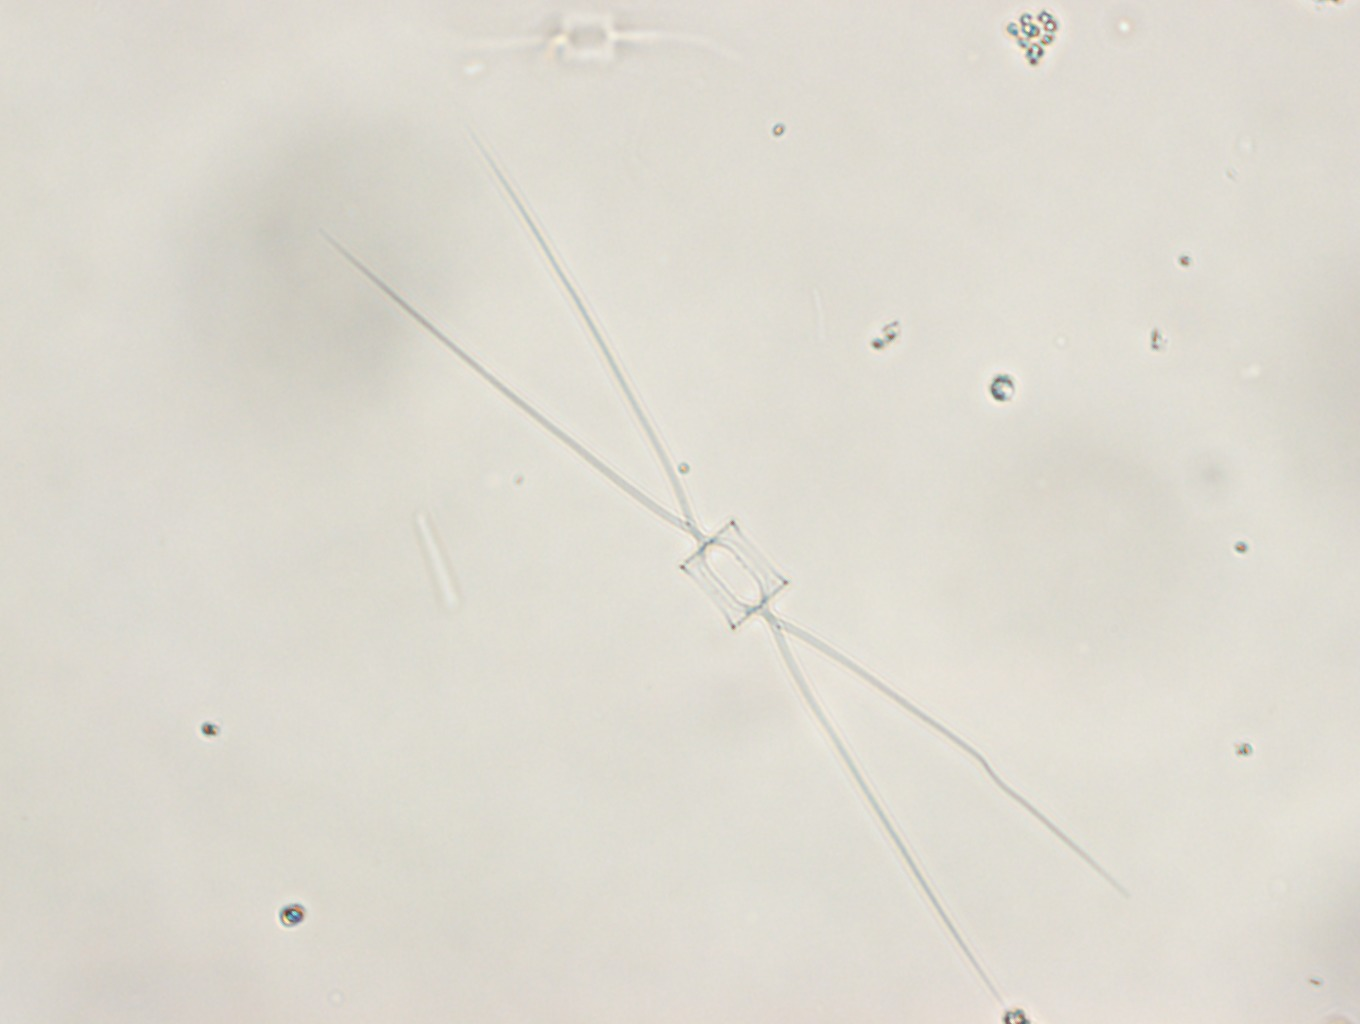chaetoceros: (318, 127, 1127, 1011)
